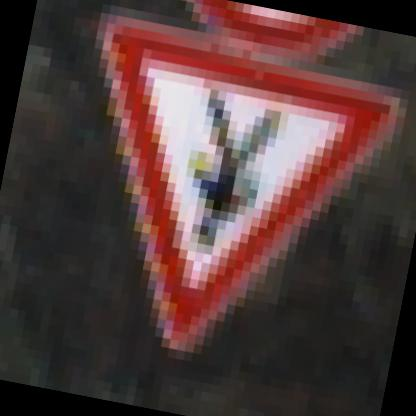crosswalk: (27, 1, 415, 408)
